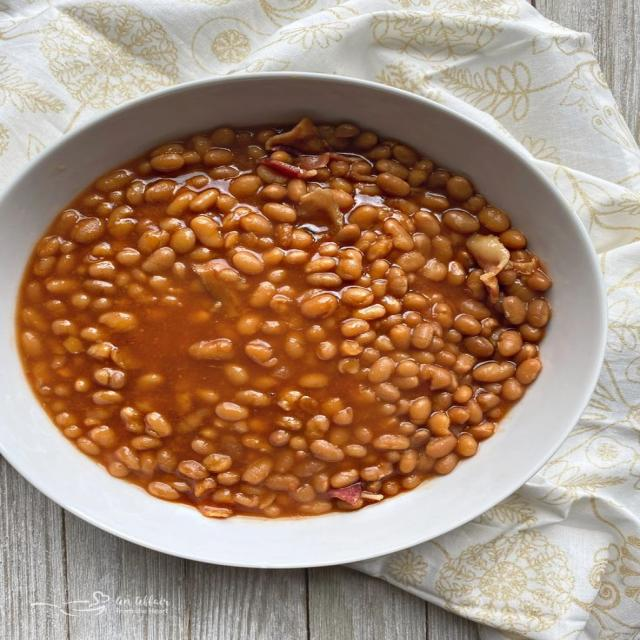beans: (18, 120, 551, 517), (190, 216, 223, 248), (188, 338, 234, 360), (384, 218, 413, 251), (300, 294, 338, 318), (443, 210, 479, 234), (142, 247, 175, 273), (473, 362, 515, 382), (95, 169, 133, 191), (478, 207, 510, 233), (71, 218, 104, 243), (376, 173, 410, 197), (242, 458, 273, 484), (336, 249, 362, 280), (229, 175, 261, 200), (367, 357, 395, 384), (426, 434, 457, 458), (310, 440, 344, 461), (262, 203, 297, 223), (145, 412, 173, 437), (340, 286, 373, 307), (233, 252, 264, 274), (498, 330, 522, 358), (245, 340, 273, 364), (94, 368, 126, 389), (527, 299, 550, 328), (396, 251, 426, 273), (516, 358, 541, 384), (447, 176, 473, 201), (503, 296, 526, 324), (464, 336, 494, 357), (151, 153, 184, 172), (170, 228, 195, 253), (216, 402, 248, 421), (409, 397, 431, 424), (373, 434, 410, 450), (148, 481, 179, 500), (411, 323, 433, 349), (178, 460, 208, 479), (454, 314, 481, 335), (427, 412, 450, 436), (203, 453, 232, 472), (203, 149, 233, 167), (501, 378, 524, 401), (527, 269, 551, 291), (307, 273, 342, 288), (434, 453, 459, 474), (500, 229, 526, 249), (468, 422, 495, 441), (341, 319, 369, 337), (398, 449, 418, 474), (330, 470, 359, 487), (354, 305, 386, 320), (93, 390, 123, 405), (299, 373, 328, 388), (316, 342, 337, 360)
